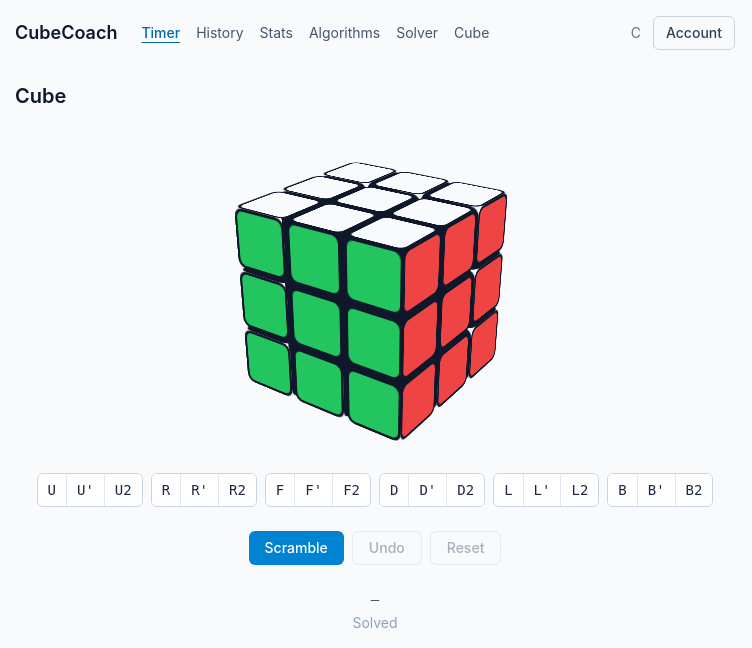
CubePlayground › applies a move when its button is pressed
Click the button "R": (166, 490) [152,474,181,506]
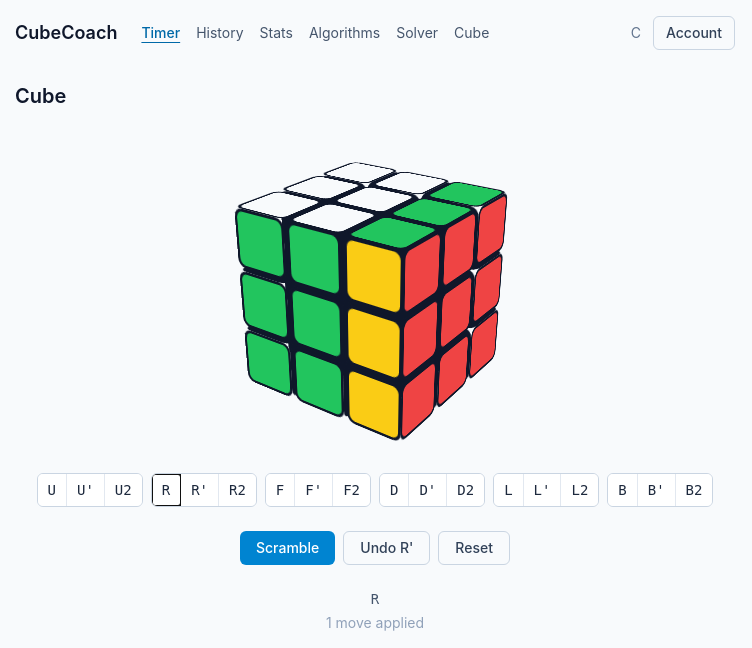
Now the picture named "scrambled cube" is shown, box [234,161,508,443]
Now the text "1 move applied" is shown, box [326,614,424,631]
